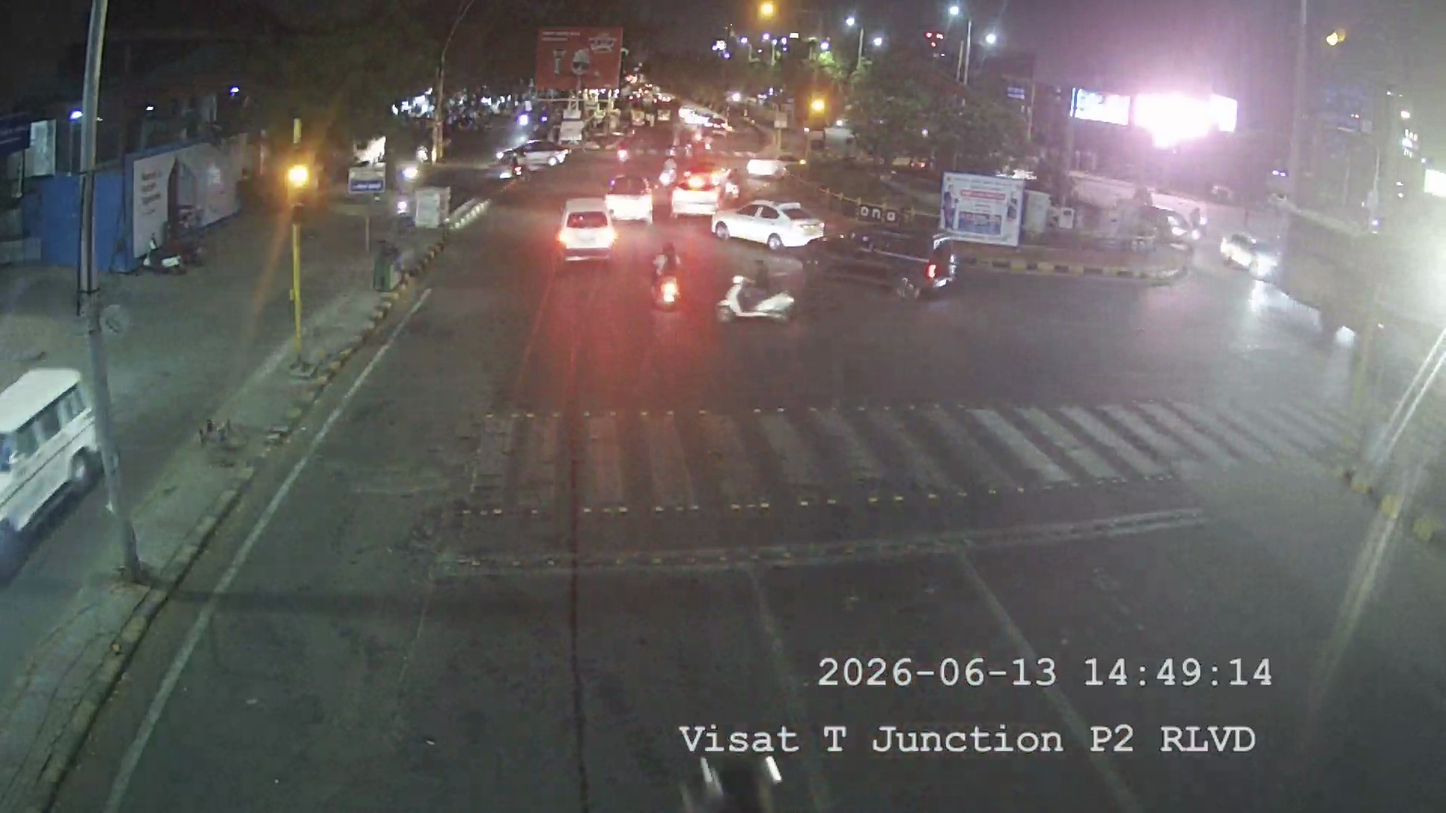car: (0, 343, 102, 598), (709, 195, 830, 250), (555, 196, 618, 261), (1218, 225, 1282, 279), (671, 166, 726, 216), (603, 174, 654, 224), (516, 138, 570, 171), (745, 150, 795, 185)
two_wheeler: (713, 262, 800, 323), (646, 238, 689, 314), (917, 234, 964, 295)
